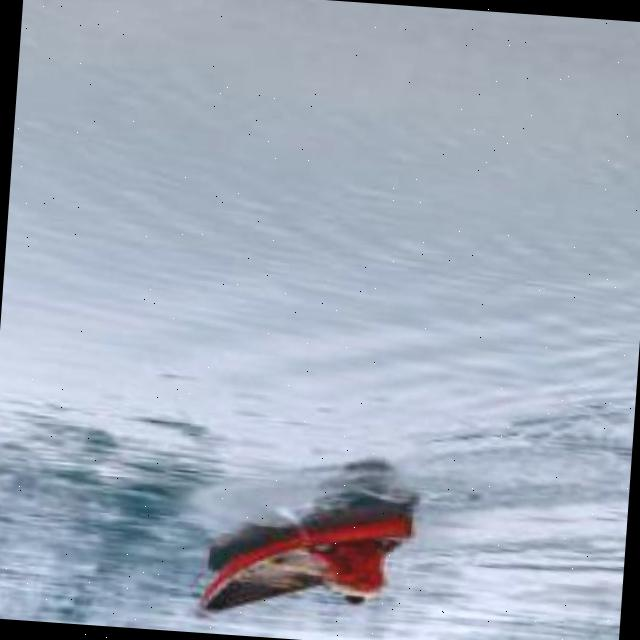kayak: (204, 502, 408, 616)
